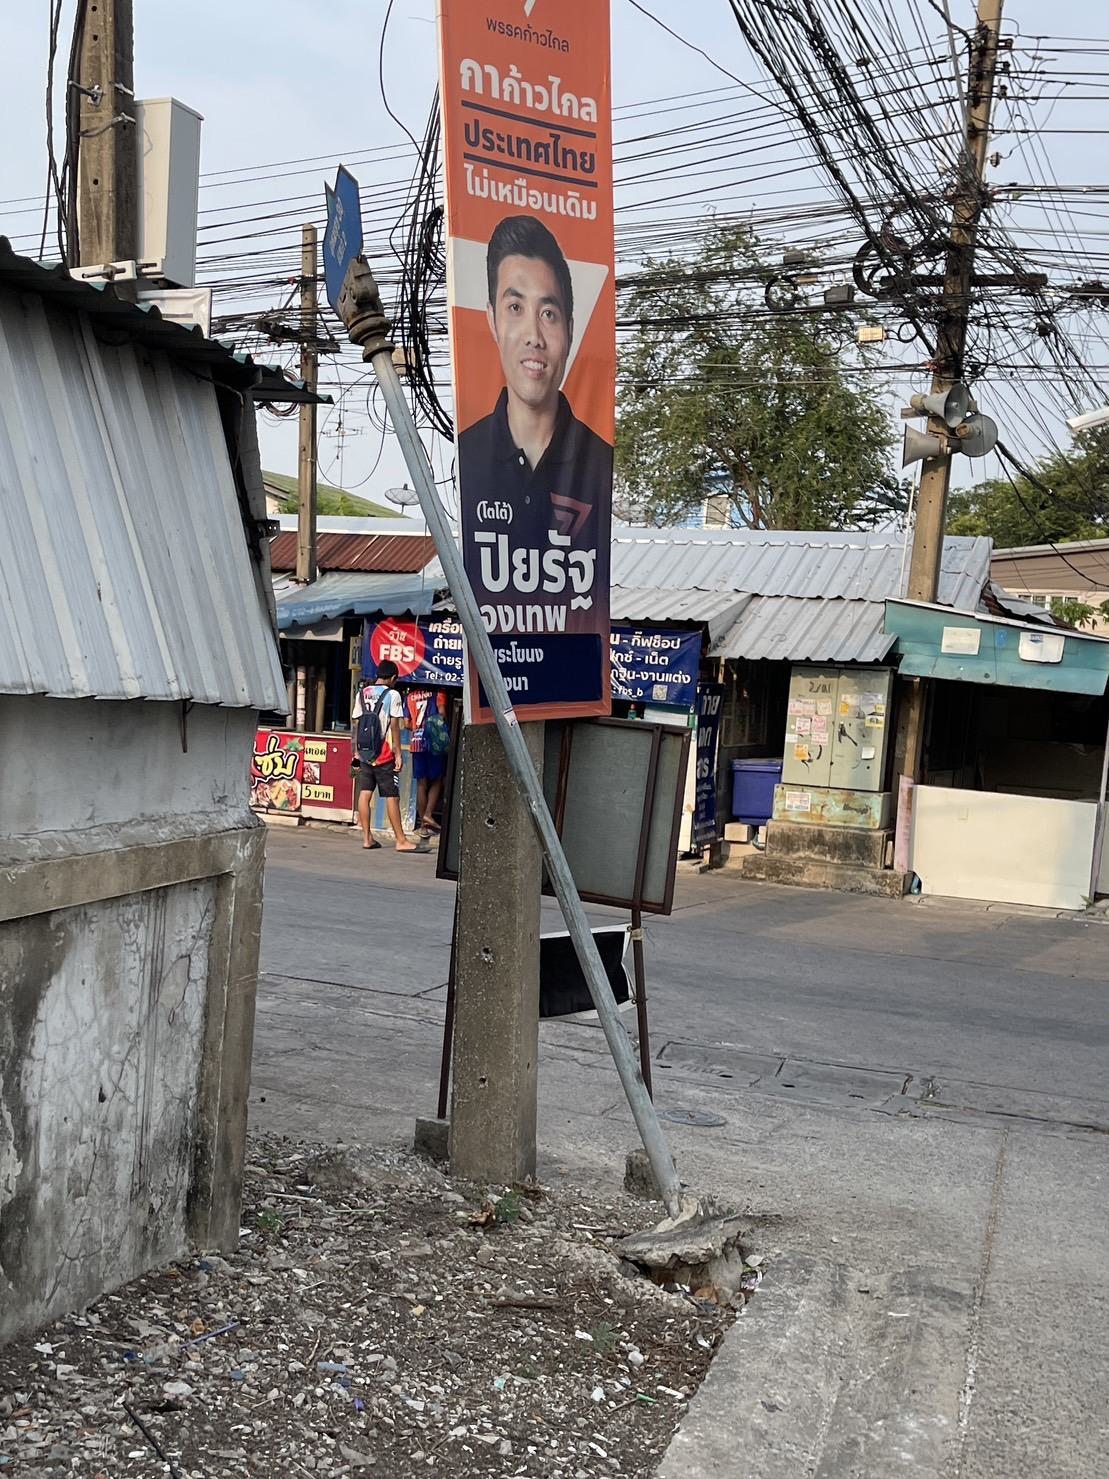Banner: (436, 0, 615, 729)
